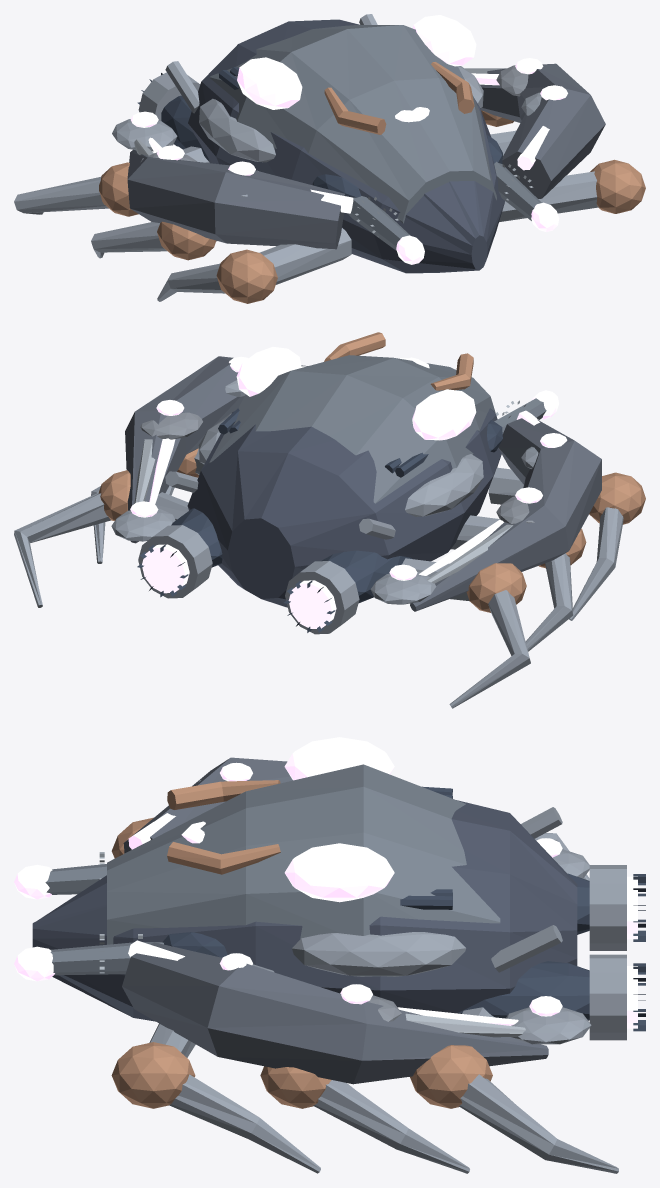
File: npc_lordakia.glb
The picture shows the model from 3 angles, top to bottom: view 1: azimuth 30°, elevation 25°; view 2: azimuth 150°, elevation 25°; view 3: azimuth 270°, elevation 25°; orthographic projection. The views are drawn at different scales.
Parts seen in each view (by area): view 1: upper_armor_scar, keel_pressure_hull, armored_scythe_-1, armored_scythe_1, vrx_spider_leg_-1_0, vrx_venom_cell_-1, heavy_shield_pad_-1, vrx_spider_leg_-1_2, vrx_joint_-1_0, vrx_joint_1_0, vrx_venom_cell_1, vrx_spider_leg_1_0 (+17 smaller); view 2: keel_pressure_hull, upper_armor_scar, armored_scythe_-1, armored_scythe_1, vrx_spider_leg_1_2, vrx_spider_leg_-1_2, vrx_spider_leg_-1_0, heavy_shield_pad_-1, vrx_spider_leg_-1_1, vrx_venom_cell_-1, exhaust_coil_1, exhaust_coil_-1 (+21 smaller); view 3: upper_armor_scar, keel_pressure_hull, armored_scythe_1, heavy_shield_pad_1, vrx_venom_cell_1, vrx_spider_leg_1_2, vrx_spider_leg_1_0, vrx_spider_leg_1_1, vrx_joint_1_0, engine_armor_1, vrx_joint_1_2, exhaust_coil_1 (+21 smaller).
Boxes of the visible parts, left/top/right/bottom form: upper_armor_scar: left=209, top=25, right=496, bottom=223; keel_pressure_hull: left=188, top=19, right=504, bottom=273; armored_scythe_-1: left=127, top=149, right=345, bottom=249; armored_scythe_1: left=480, top=63, right=605, bottom=198; vrx_spider_leg_-1_0: left=157, top=228, right=351, bottom=301; vrx_venom_cell_-1: left=237, top=57, right=302, bottom=109; heavy_shield_pad_-1: left=199, top=98, right=275, bottom=162; vrx_spider_leg_-1_2: left=14, top=146, right=209, bottom=214; vrx_joint_-1_0: left=216, top=249, right=277, bottom=303; vrx_joint_1_0: left=590, top=159, right=645, bottom=213; vrx_venom_cell_1: left=413, top=15, right=476, bottom=66; vrx_spider_leg_1_0: left=499, top=171, right=598, bottom=222; keel_pressure_hull: left=187, top=408, right=501, bottom=607; upper_armor_scar: left=209, top=355, right=495, bottom=503; armored_scythe_-1: left=410, top=418, right=601, bottom=611; armored_scythe_1: left=125, top=356, right=307, bottom=543; vrx_spider_leg_1_2: left=14, top=492, right=188, bottom=607; vrx_spider_leg_-1_2: left=402, top=558, right=530, bottom=708; vrx_spider_leg_-1_0: left=488, top=467, right=623, bottom=620; heavy_shield_pad_-1: left=405, top=454, right=483, bottom=516; vrx_spider_leg_-1_1: left=451, top=515, right=573, bottom=651; vrx_venom_cell_-1: left=412, top=389, right=476, bottom=440; exhaust_coil_1: left=138, top=525, right=212, bottom=598; exhaust_coil_-1: left=285, top=561, right=359, bottom=634; upper_armor_scar: left=107, top=764, right=500, bottom=944; keel_pressure_hull: left=32, top=800, right=577, bottom=1021; armored_scythe_1: left=122, top=942, right=548, bottom=1084; heavy_shield_pad_1: left=292, top=932, right=466, bottom=976; vrx_venom_cell_1: left=284, top=843, right=394, bottom=902; vrx_spider_leg_1_2: left=459, top=1007, right=618, bottom=1173; vrx_spider_leg_1_0: left=149, top=1023, right=320, bottom=1173; vrx_spider_leg_1_1: left=313, top=1080, right=469, bottom=1173; vrx_joint_1_0: left=111, top=1042, right=195, bottom=1108; engine_armor_1: left=457, top=961, right=589, bottom=1020; vrx_joint_1_2: left=410, top=1045, right=492, bottom=1108; exhaust_coil_1: left=589, top=954, right=626, bottom=1040.
Size of the model in its own units: 3.2 by 1.24 by 2.71.
